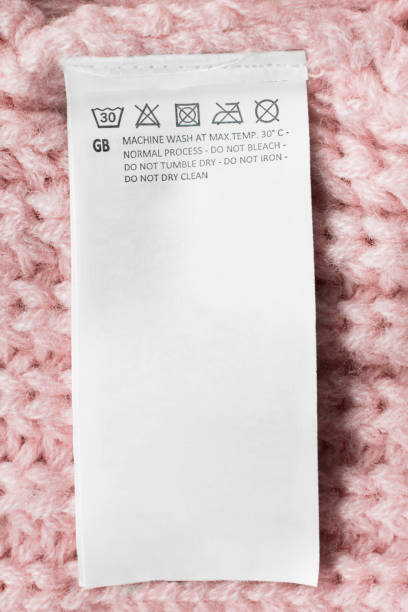ER_no_bleach: (132, 100, 165, 131)
ER_no_dry_clean: (253, 96, 282, 125)
ER_no_iron: (211, 100, 246, 127)
ER_no_tumble_dry: (173, 101, 201, 128)
ER_wash_30: (86, 101, 126, 130)
